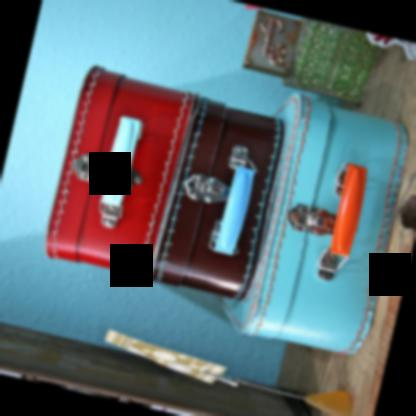suitcase: (48, 65, 280, 301), (216, 93, 413, 356)
